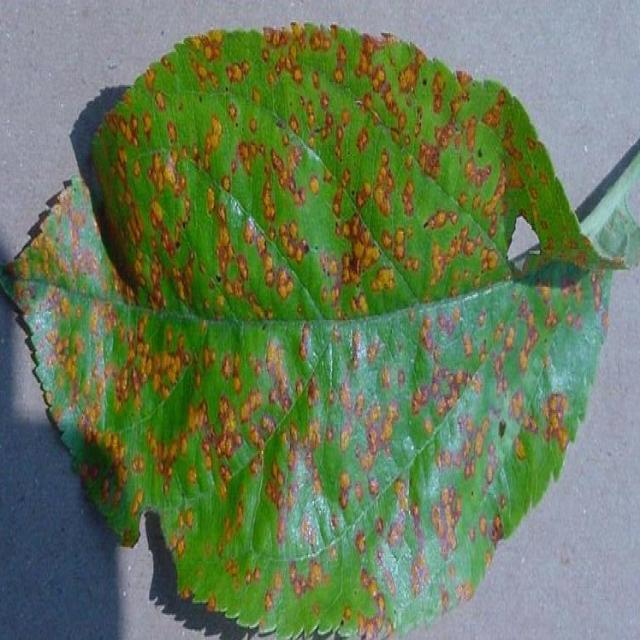Gymnosporangium_Rusts: (2, 19, 629, 637)
